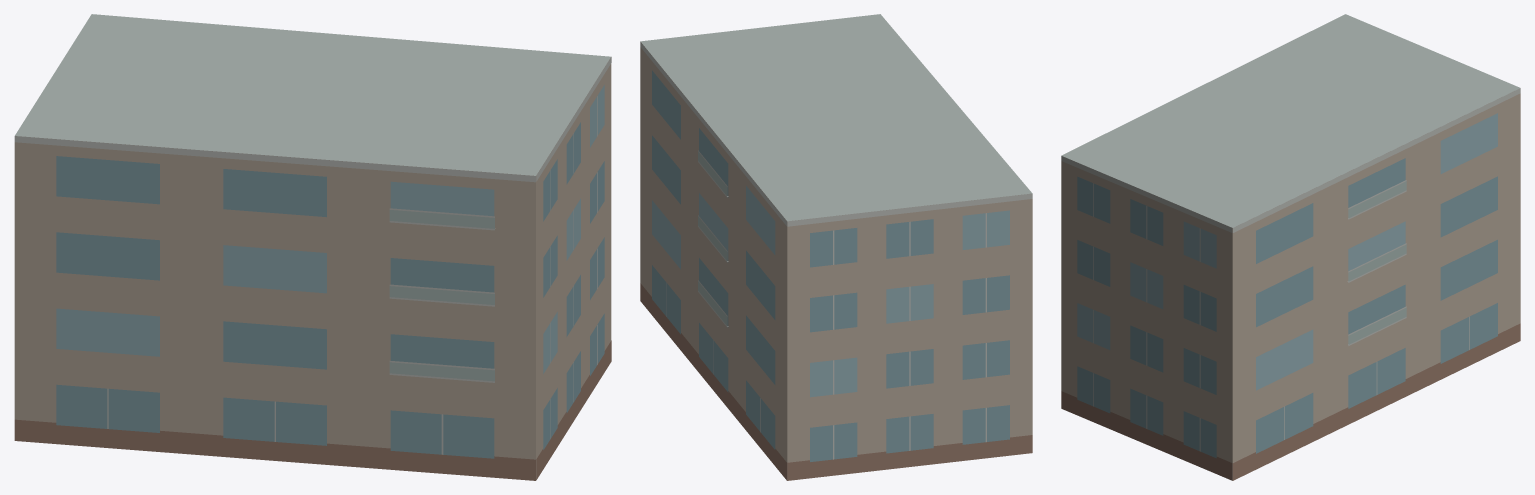
The model's file is survey-upis-32777432.glb.
3 views of the same model, side by side, from view 1: azimuth 30°, elevation 25°; view 2: azimuth 150°, elevation 25°; view 3: azimuth 270°, elevation 25° (orthographic). The views are drawn at different scales.
Visible parts, largest first — view 1: survey-upis-32777432.tmp; view 2: survey-upis-32777432.tmp; view 3: survey-upis-32777432.tmp.
Boxes of the visible parts, bbox=[...] form: survey-upis-32777432.tmp: bbox=[14, 14, 611, 480]; survey-upis-32777432.tmp: bbox=[640, 14, 1032, 480]; survey-upis-32777432.tmp: bbox=[1061, 14, 1520, 480].
Bounding box in the file's own units: 21.24 × 11.7 × 19.27.
